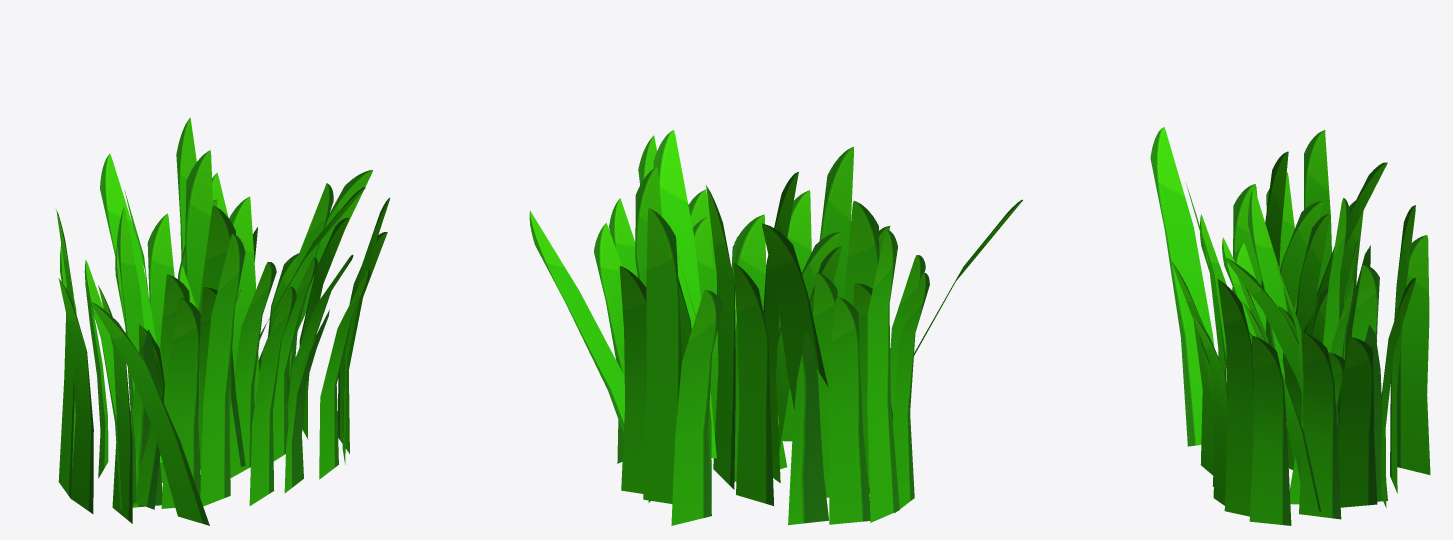
The model's file is Grass_02.FBX.
The picture shows the model from 3 angles, left to right: view 1: azimuth 30°, elevation 25°; view 2: azimuth 150°, elevation 25°; view 3: azimuth 270°, elevation 25°; orthographic projection. The views are drawn at different scales.
Visible parts, largest first — view 1: Grass_02; view 2: Grass_02; view 3: Grass_02.
Boxes of the visible parts, left/top/right/bottom form: Grass_02: left=56, top=117, right=390, bottom=525; Grass_02: left=529, top=130, right=1022, bottom=525; Grass_02: left=1150, top=127, right=1430, bottom=525.
Size of the model in its own units: 45.84 by 26.51 by 36.99.
